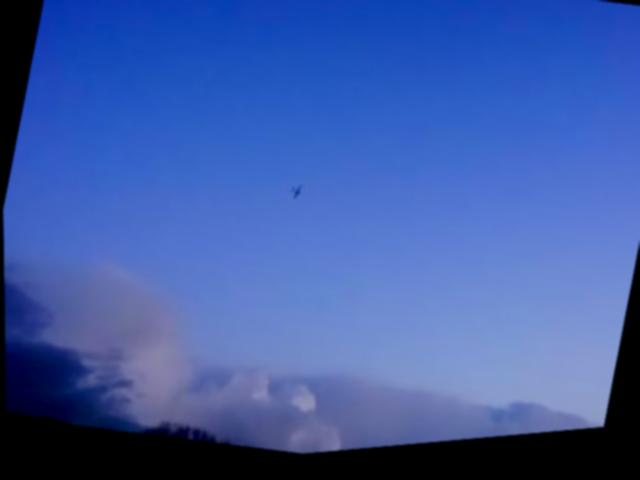uav: (285, 185, 306, 212)
